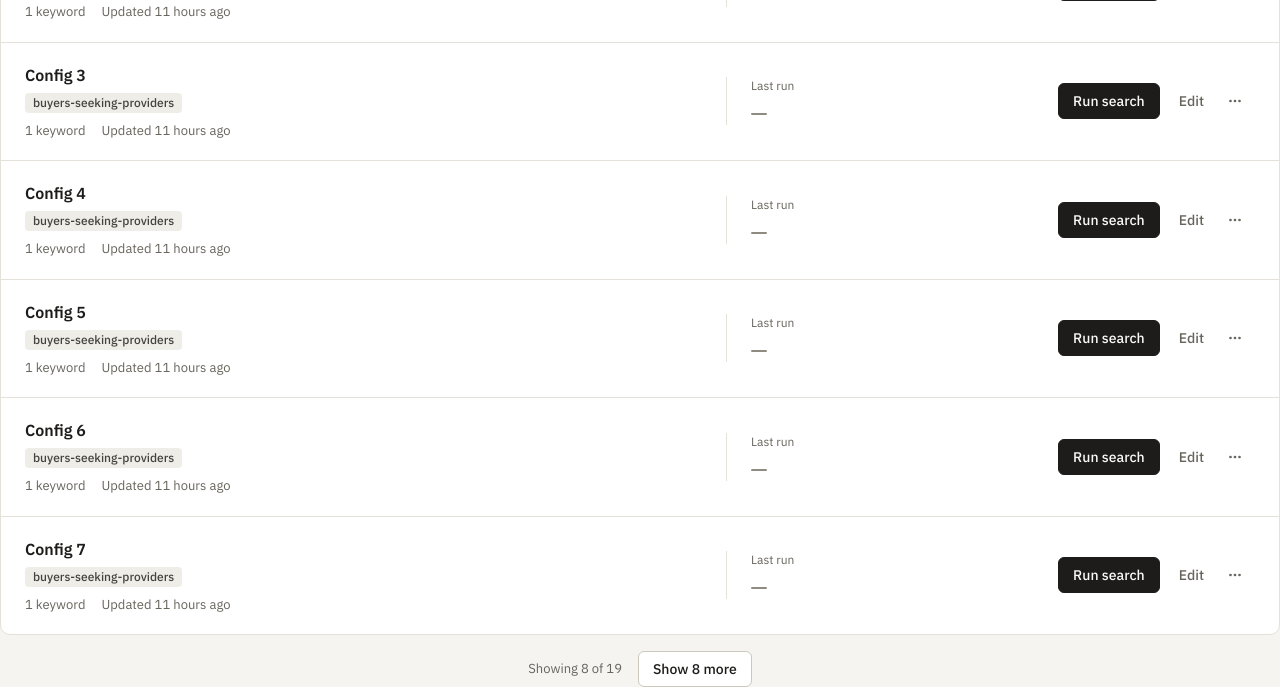
Test: ConfigList › shows eight configs at a time and moves focus to the first one it reveals
This screenshot has width=1280, height=687.
(page scrolled)
Check: the text "Showing 8 of 19" is shown, box top-left (528, 659), bottom-right (622, 679)
Click the button "Show 8 more" at (695, 669), box top-left (638, 651), bottom-right (752, 686)
(page scrolled)
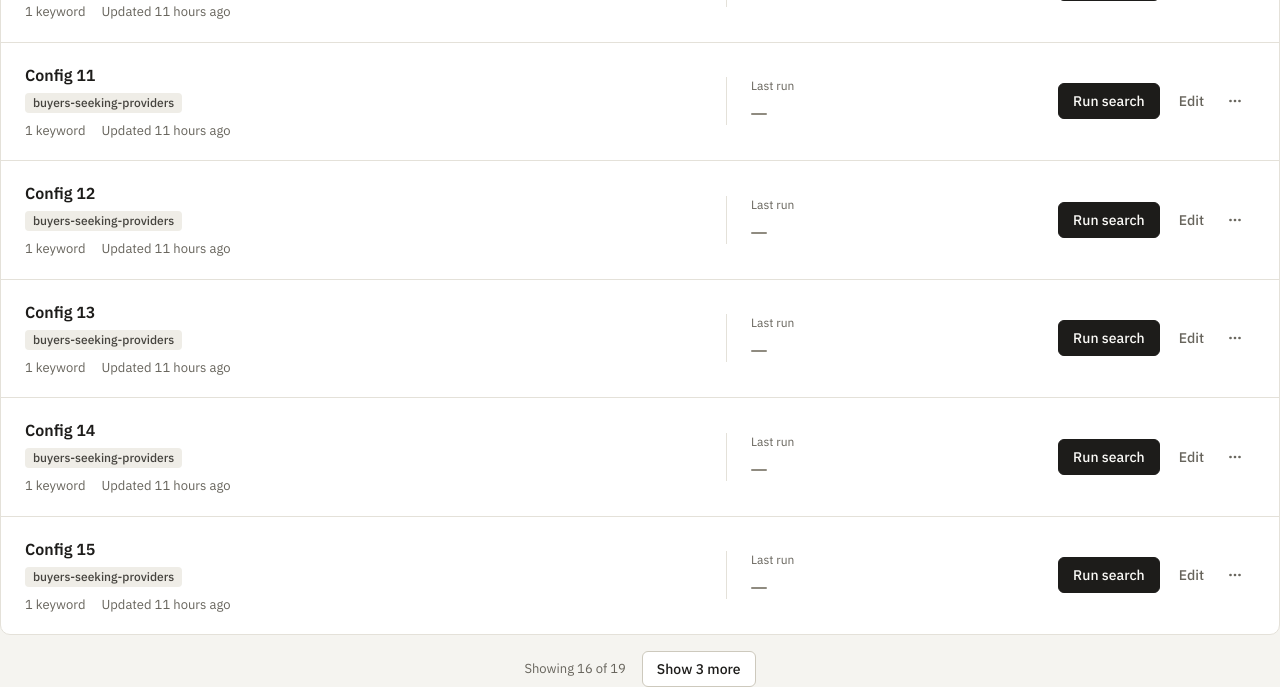
Click the button "Show 3 more" at (699, 669), box top-left (642, 651), bottom-right (756, 686)
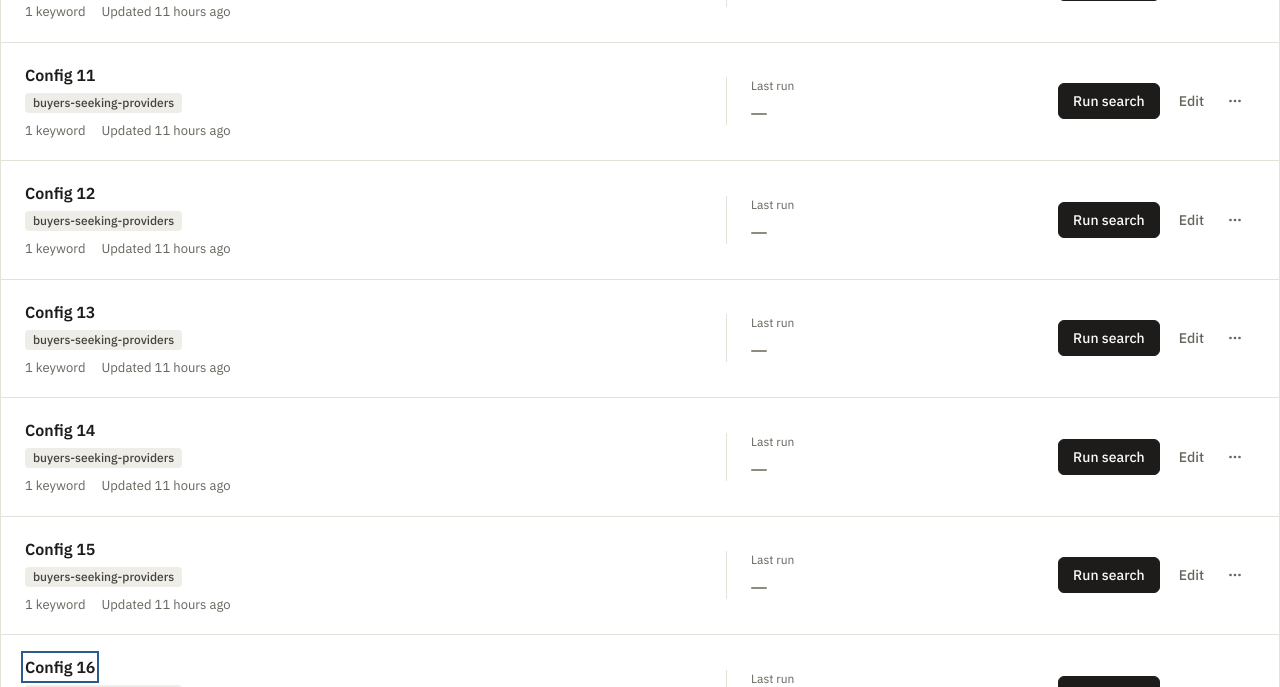
Check: the button "more" is gone
